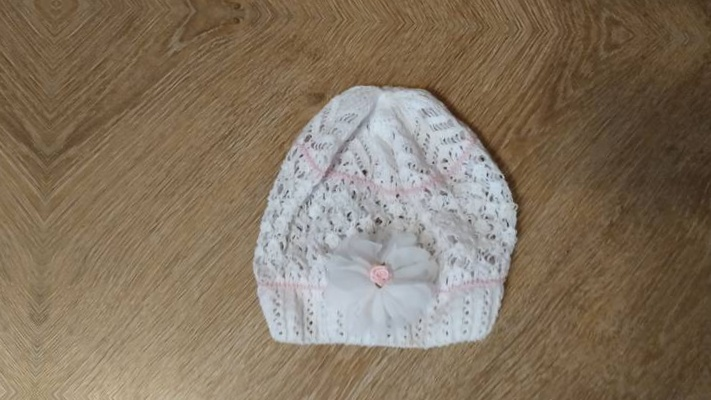Hat: (202, 52, 546, 371)
